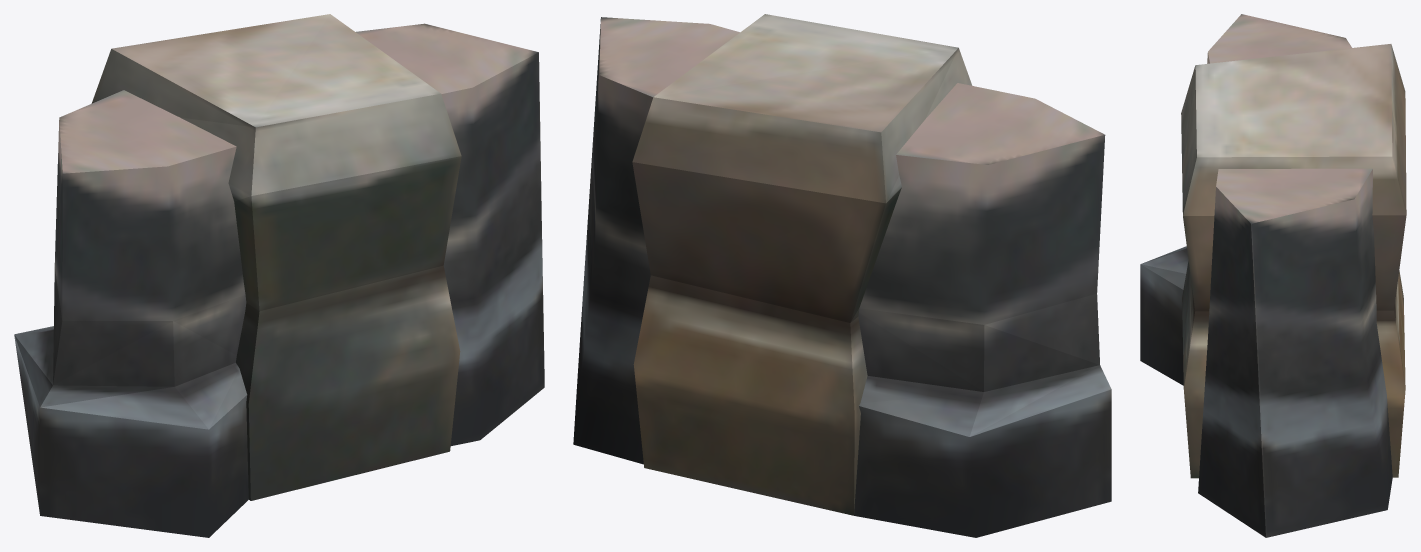
File: ShiTou15.FBX
3 renders of one model, left to right at view 1: azimuth 30°, elevation 25°; view 2: azimuth 150°, elevation 25°; view 3: azimuth 270°, elevation 25°, orthographic. The views are drawn at different scales.
Parts seen in each view (by area): view 1: Box48; view 2: Box48; view 3: Box48.
Boxes of the visible parts, x1=… form: Box48: x1=14, y1=14, x2=544, y2=537; Box48: x1=573, y1=14, x2=1111, y2=537; Box48: x1=1140, y1=14, x2=1406, y2=537.
Size of the model in its own units: 5.83 by 4.11 by 2.95.
